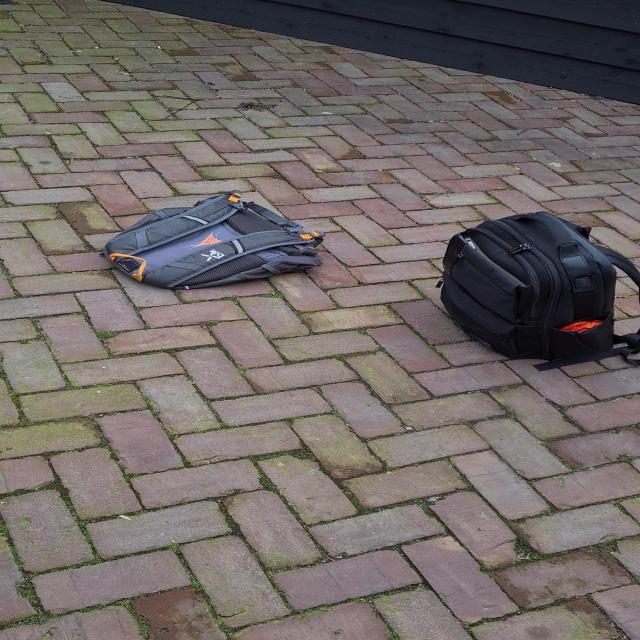backpack: (429, 208, 640, 371), (97, 193, 326, 295)
